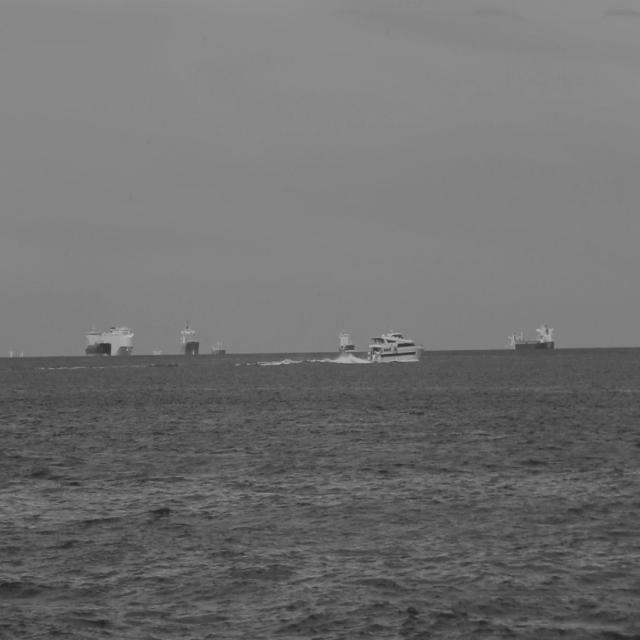ship: (364, 326, 420, 362), (512, 319, 555, 348), (96, 324, 134, 354), (179, 316, 200, 355), (82, 331, 111, 355), (338, 328, 356, 352)
